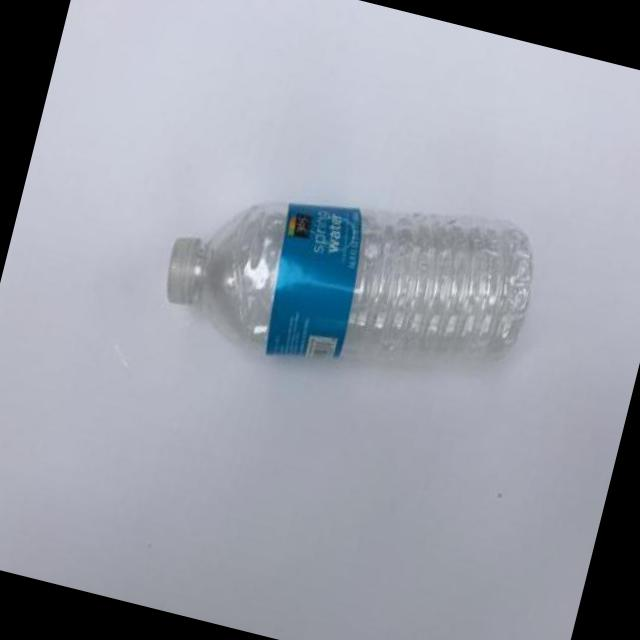plastic_bottle: (151, 143, 547, 416)
